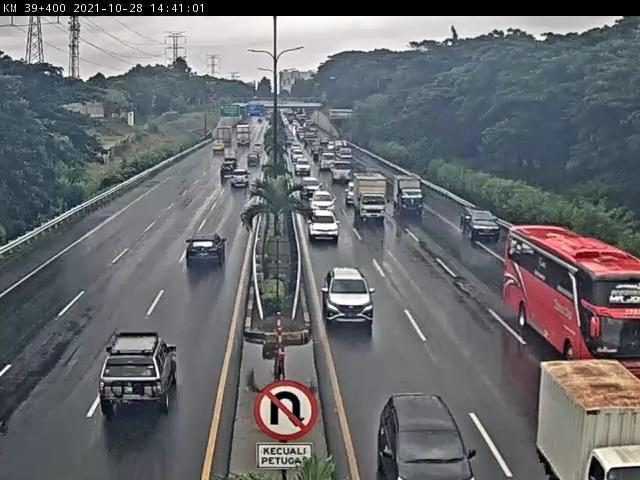bus: (505, 225, 640, 375)
car: (98, 332, 180, 416), (322, 268, 374, 327), (185, 234, 227, 269), (460, 208, 503, 242), (306, 210, 341, 242)
truck: (353, 173, 386, 222), (393, 174, 425, 214), (310, 191, 338, 216)
